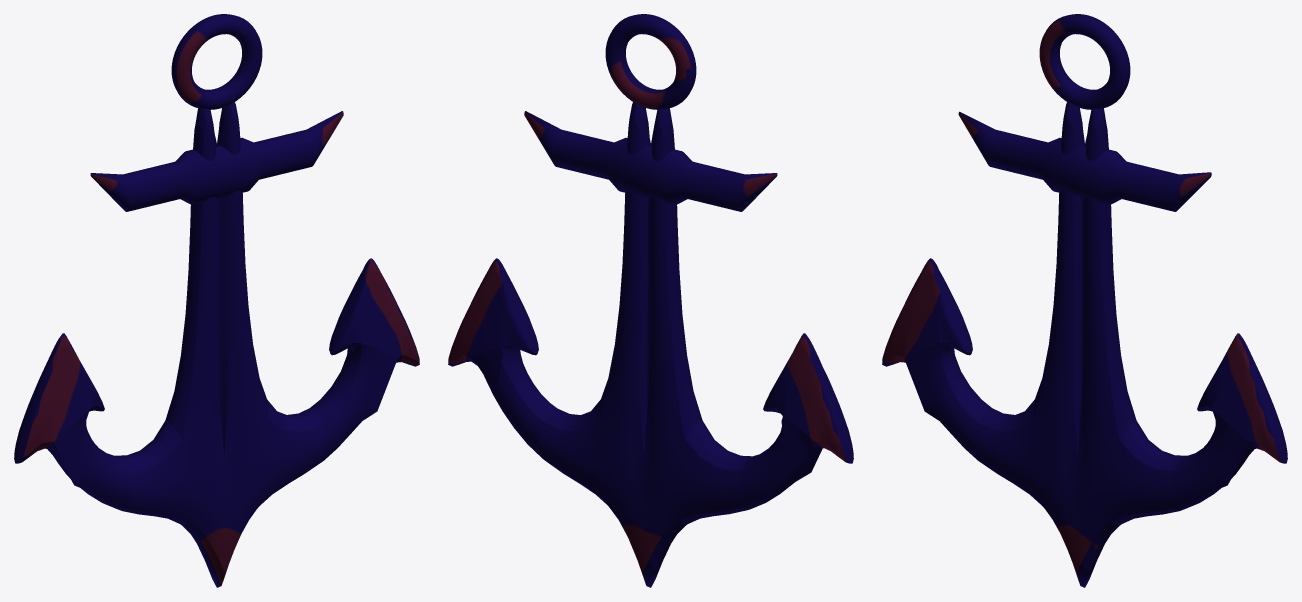
Rendered from Anchor.fbx.
The picture shows the model from 3 angles, left to right: view 1: azimuth 30°, elevation 25°; view 2: azimuth 150°, elevation 25°; view 3: azimuth 330°, elevation 25°; orthographic projection.
Parts seen in each view (by area): view 1: Anchor; view 2: Anchor; view 3: Anchor.
Boxes of the visible parts, x1=… form: Anchor: x1=14, y1=14, x2=419, y2=587; Anchor: x1=448, y1=14, x2=853, y2=587; Anchor: x1=882, y1=14, x2=1287, y2=587.
Size of the model in its own units: 339 by 459 by 33.3.
